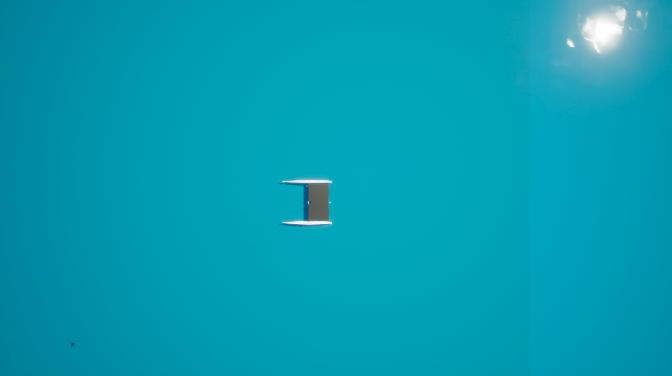boat: (279, 177, 335, 230)
drone: (69, 341, 77, 349)
land_base: (309, 184, 329, 222)
light_reflex: (536, 1, 659, 83)
